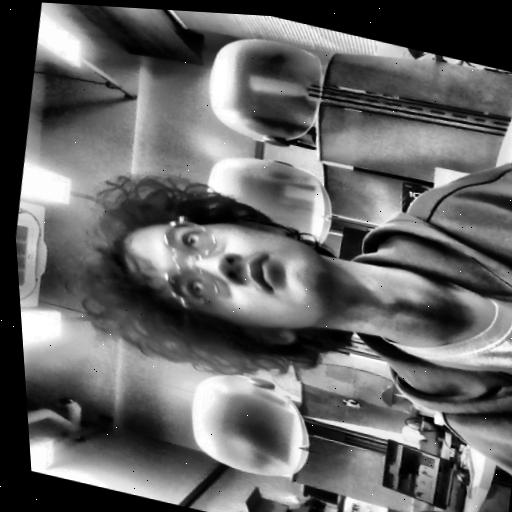Daifuku: (63, 168, 365, 400)
